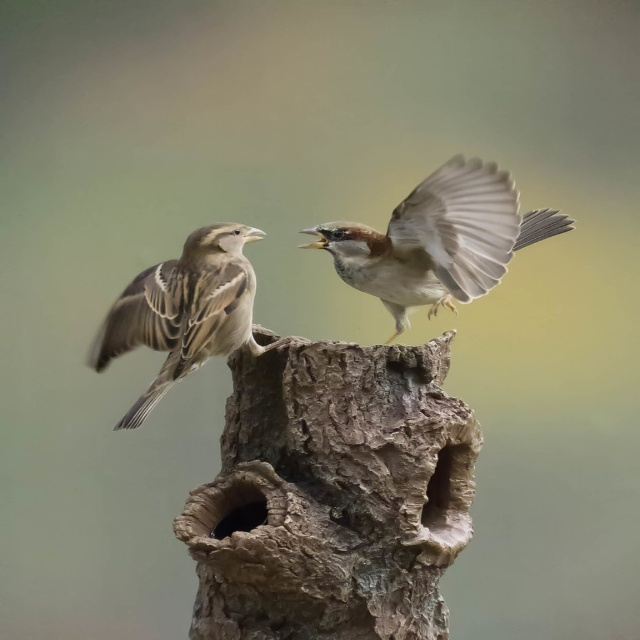Sparrow: (297, 151, 576, 344), (86, 219, 311, 430)
